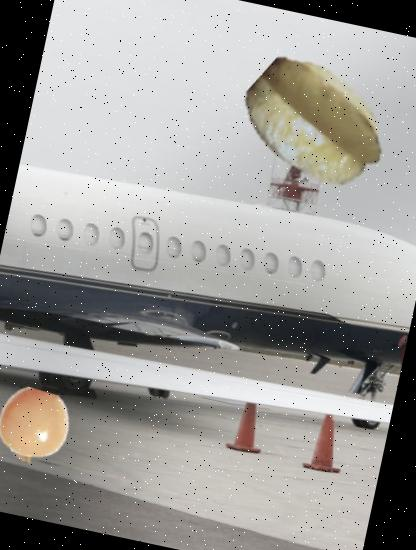Carambula: (228, 38, 401, 210)
Physalis: (0, 383, 78, 473)
